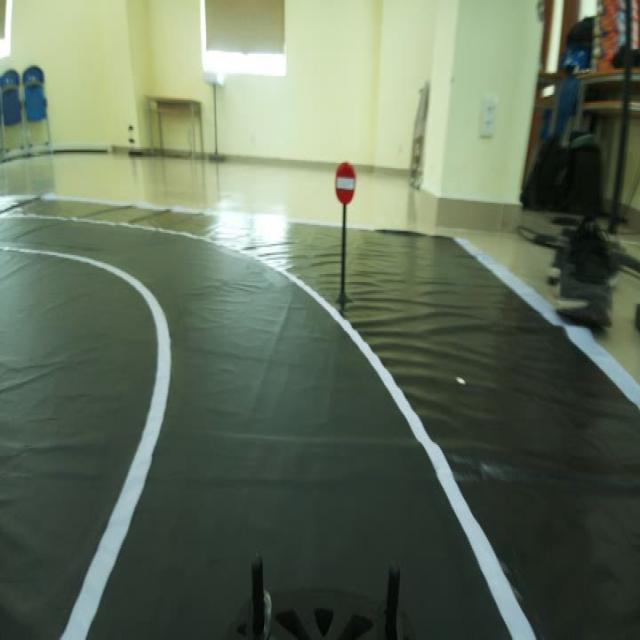no_entry: (332, 156, 360, 216)
